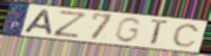7: (90, 12, 115, 42)
A: (22, 8, 54, 36)
C: (171, 23, 201, 48)
G: (113, 16, 144, 44)
T: (148, 18, 171, 47)
Z: (52, 9, 90, 40)
